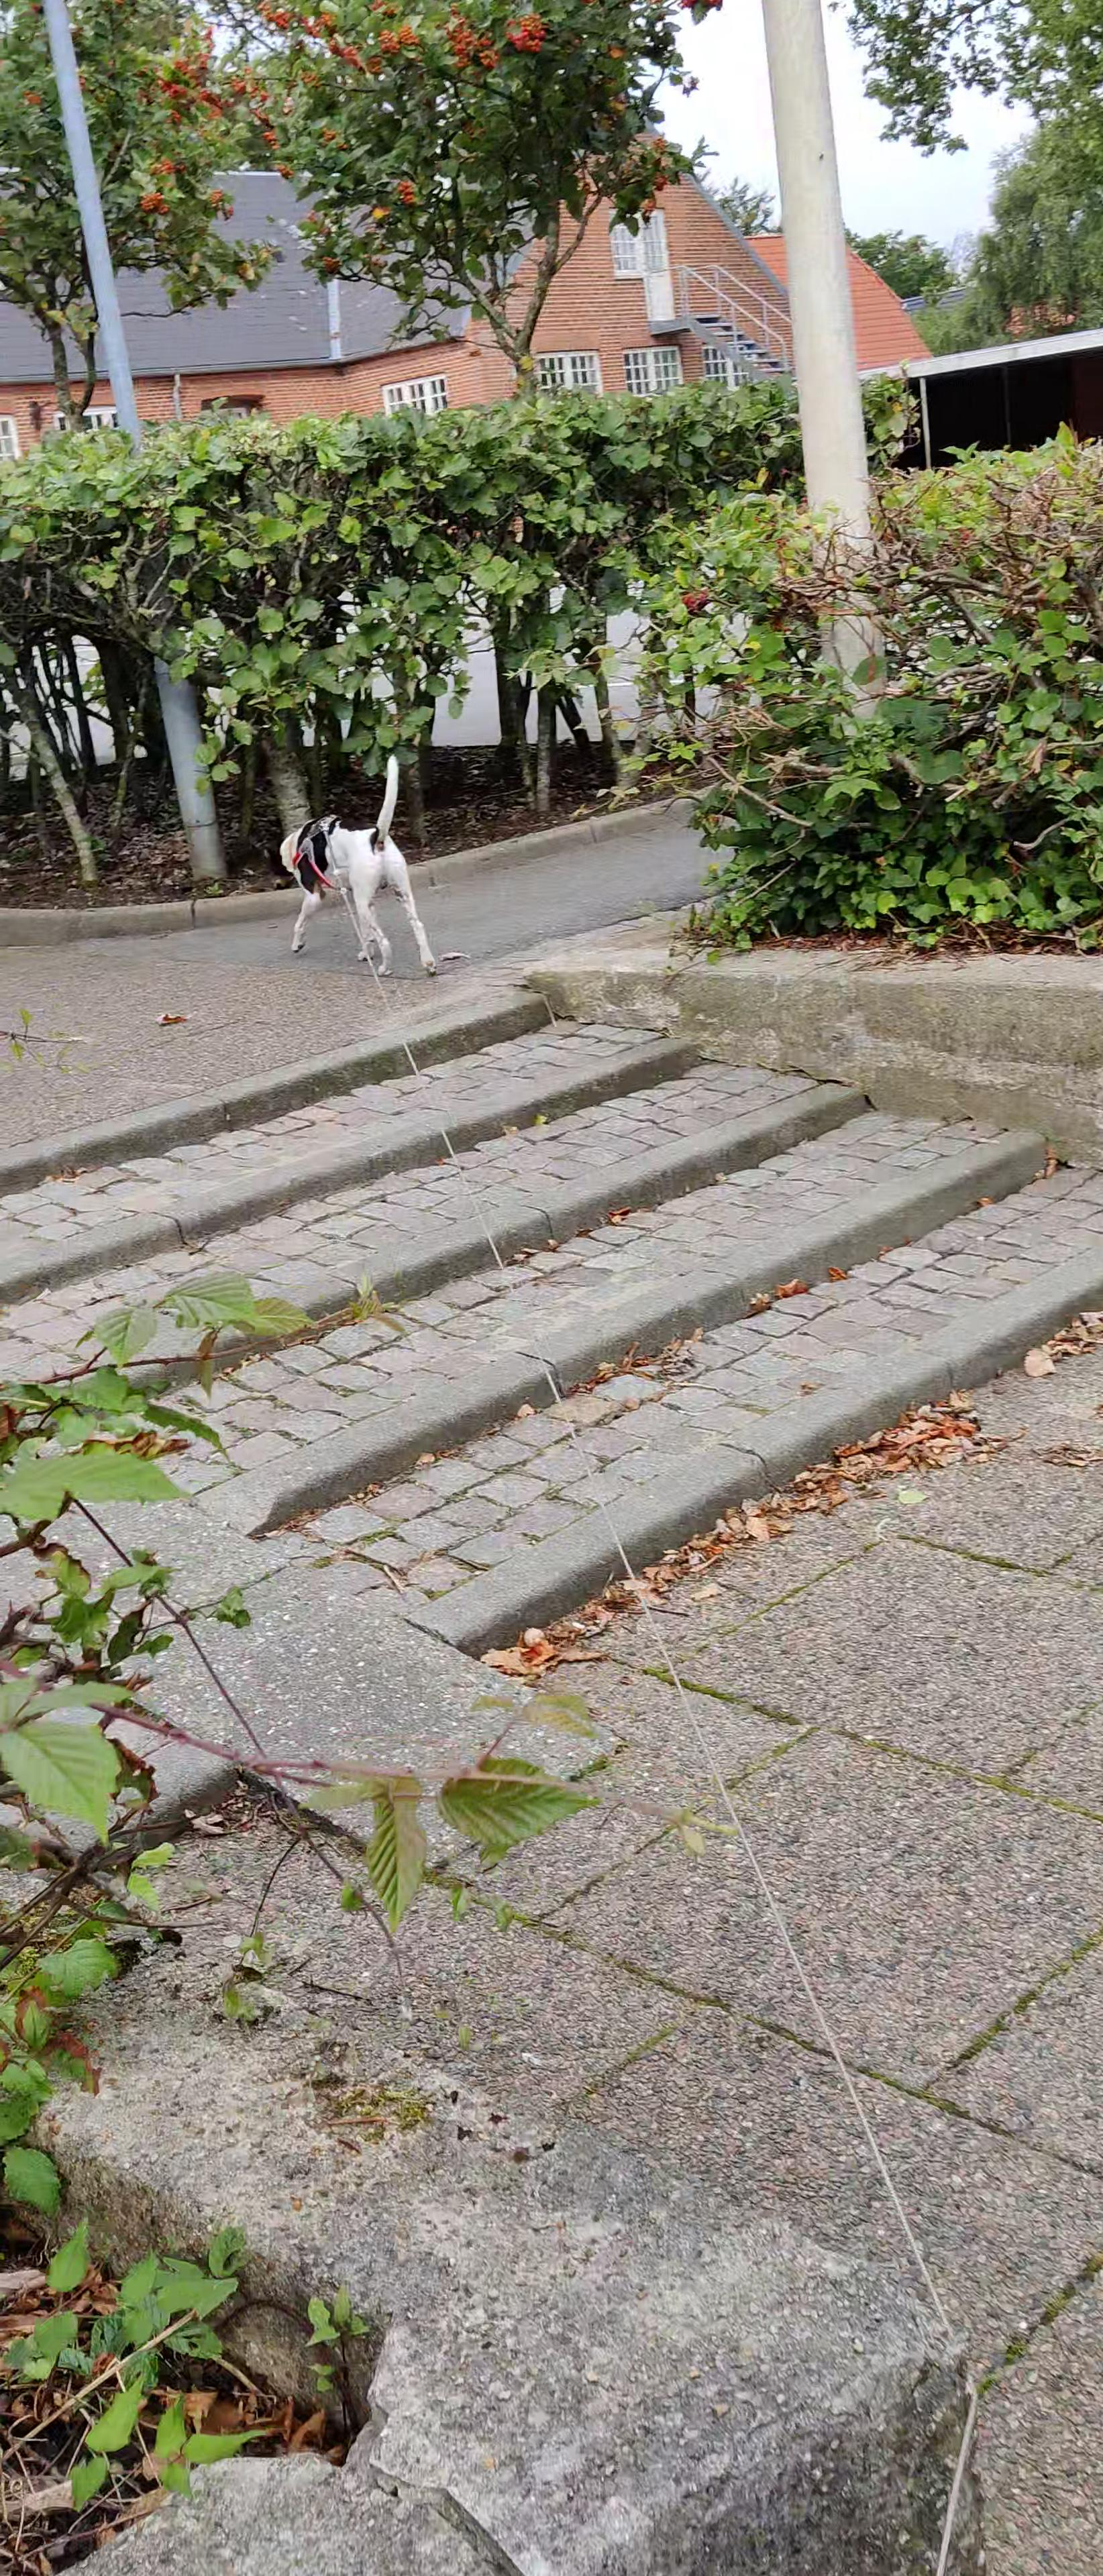Dog: (248, 749, 454, 984), (235, 858, 253, 859)
